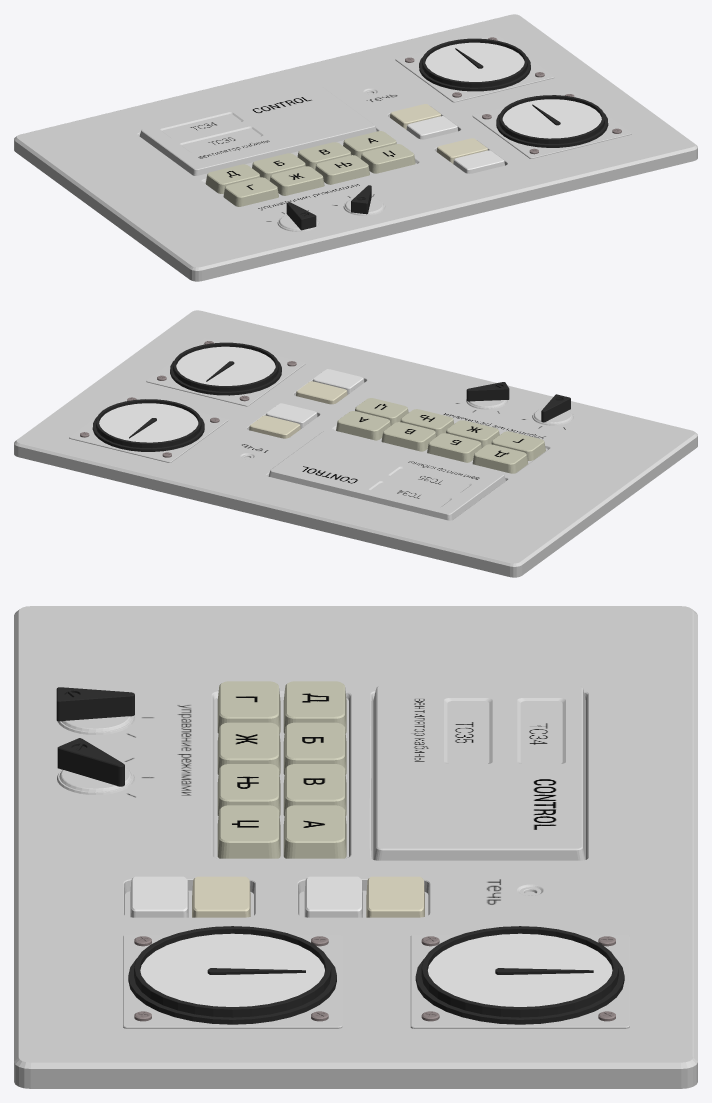
File: panel_test1.fbx
3 renders of one model, top to bottom at view 1: azimuth 30°, elevation 25°; view 2: azimuth 150°, elevation 25°; view 3: azimuth 270°, elevation 25°, orthographic. The views are drawn at different scales.
Parts seen in each view (by area): view 1: gauge.001; view 2: gauge.001; view 3: gauge.001.
Part boxes in pixels (x1,y1,x2,y2): gauge.001: (14,14,697,281); gauge.001: (14,310,697,577); gauge.001: (14,606,697,1088).
Bounding box in the file's own units: 56.31 × 2.8 × 35.33.
Materials: 8 (3 with a texture image).
